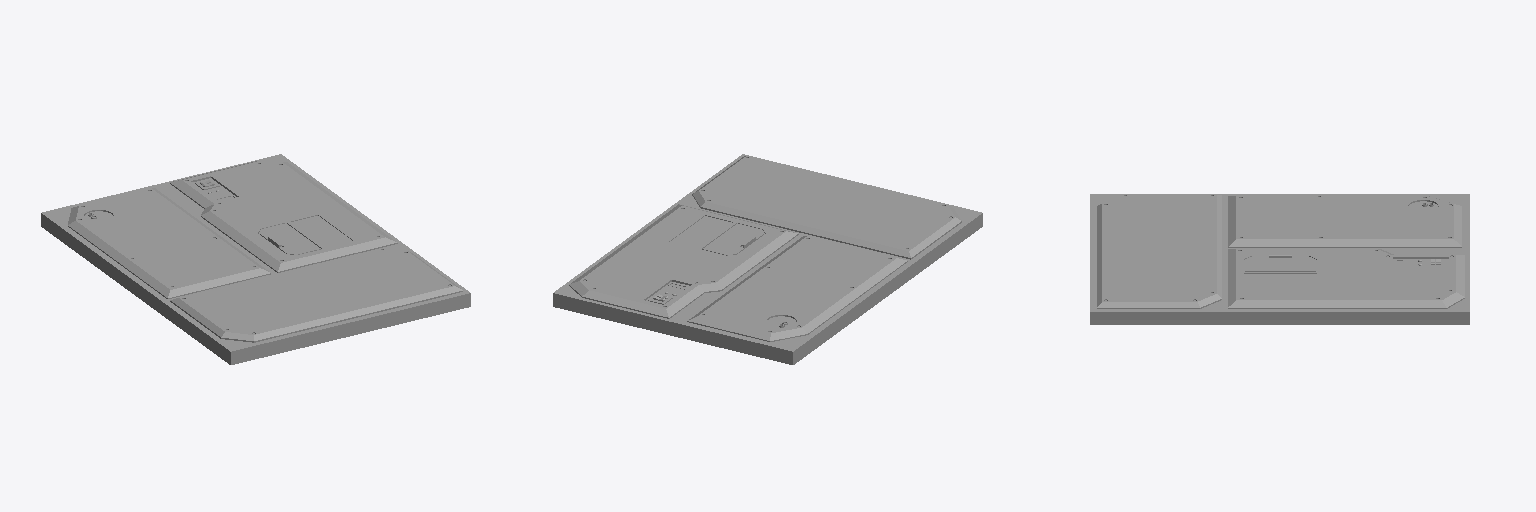
File: s1_middle_panel_2.obj
3 views of the same model, side by side, from view 1: azimuth 30°, elevation 25°; view 2: azimuth 150°, elevation 25°; view 3: azimuth 270°, elevation 25° (orthographic).
Visible parts, largest first — view 1: mesh_0; view 2: mesh_0; view 3: mesh_0.
Boxes of the visible parts, x1,y1,x2,y2 form: mesh_0: [41, 154, 470, 364]; mesh_0: [553, 154, 982, 364]; mesh_0: [1090, 194, 1469, 324].
Size of the model in its own units: 27.9 by 2.37 by 38.16.